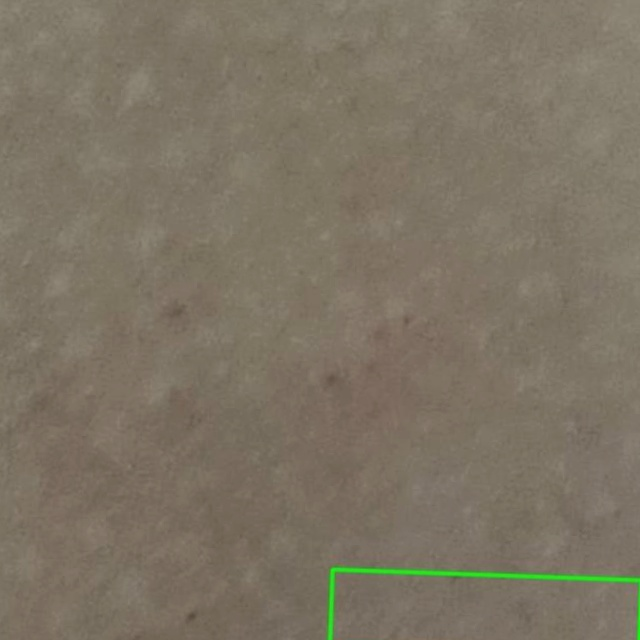Atopic Dermatitis: (330, 569, 639, 639)
